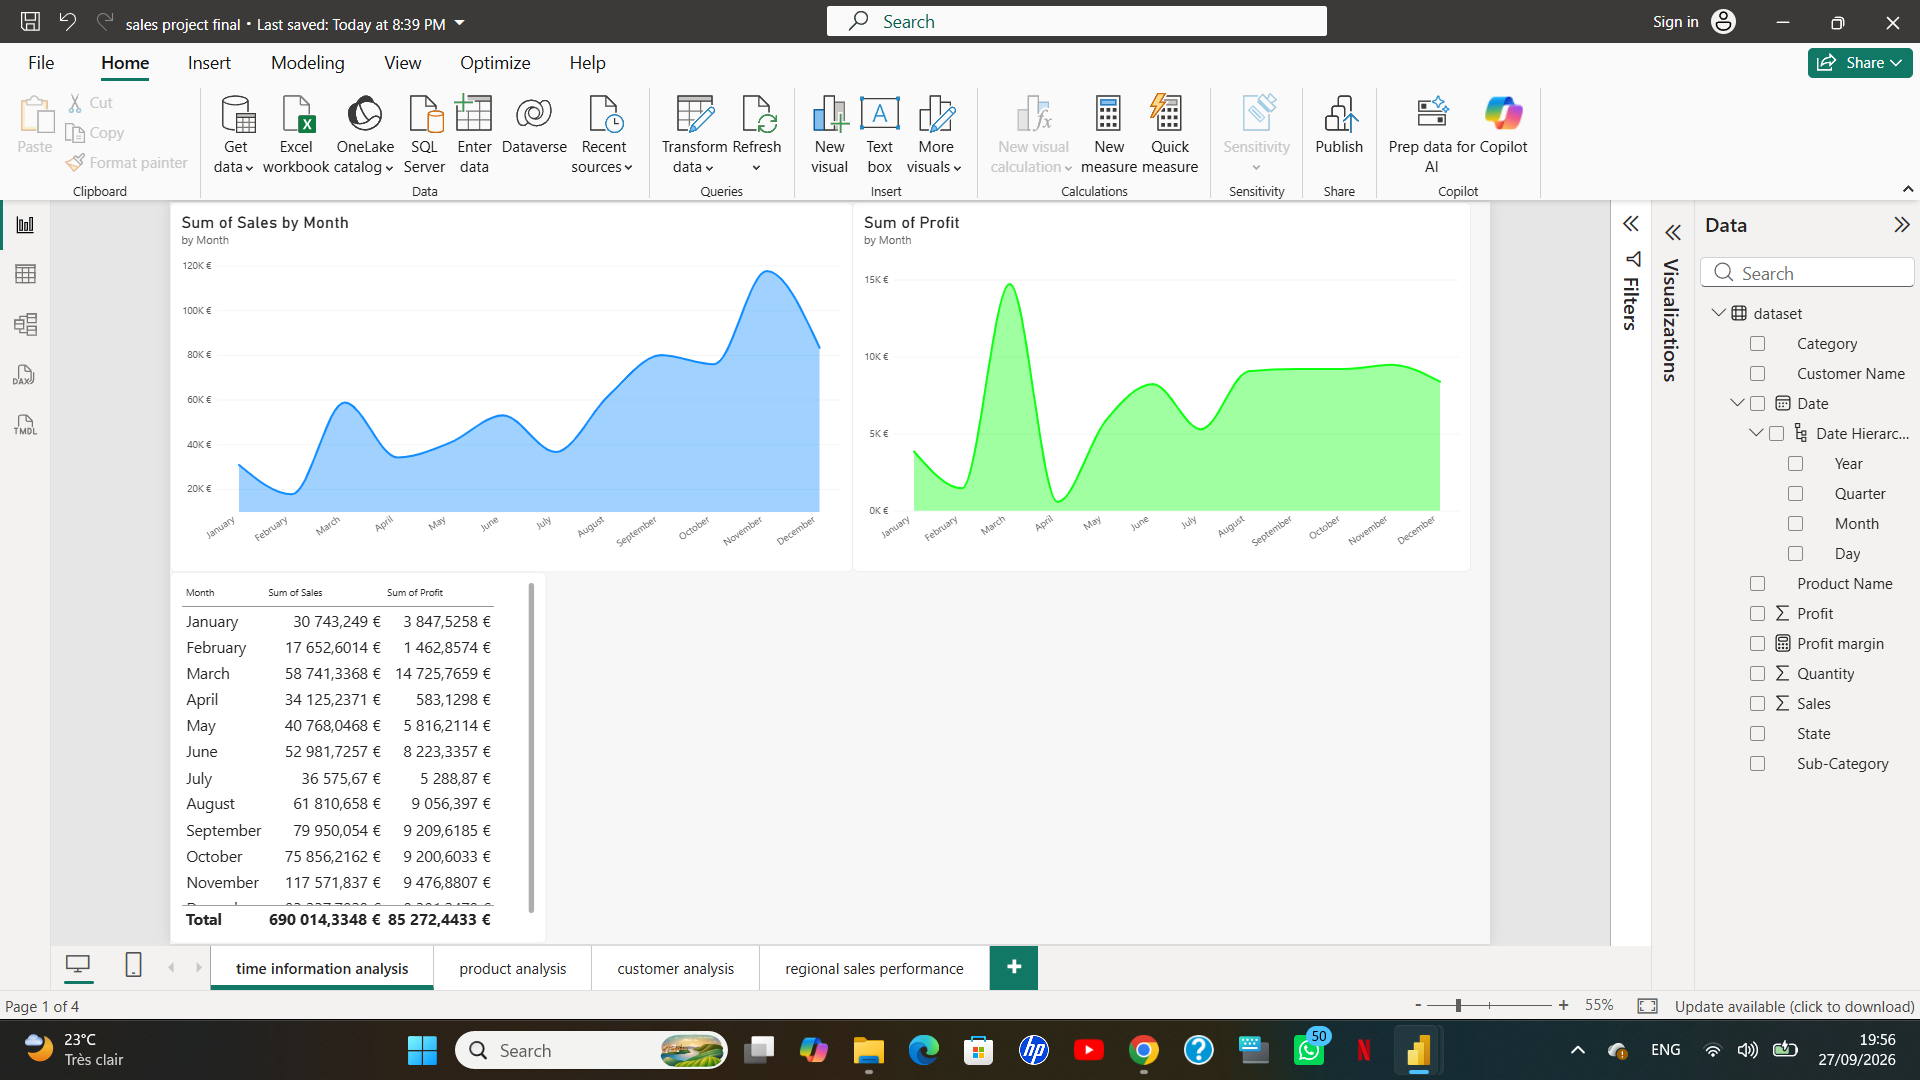

This screenshot's page, from the dashboard's own definition file:
{"tool":"powerbi","page":{"name":"time information analysis","canvas":[1920,1080],"ordinal":0},"visuals":[{"type":"lineChart","fields":{"Category":["dataset.Date.Variation.Date Hierarchy.Month"],"Y":["Sum(dataset.Sales)"]},"box":[0,0,992.7,538.2],"z":0},{"type":"areaChart","fields":{"Category":["dataset.Date.Variation.Date Hierarchy.Month"],"Y":["Sum(dataset.Profit)"]},"box":[992.7,0,899.4,537.5],"z":1000},{"type":"tableEx","fields":{"Values":["dataset.Date.Variation.Date Hierarchy.Month","Sum(dataset.Sales)","Sum(dataset.Profit)"]},"box":[0,538.2,547.3,540],"z":2000}]}

Visuals, with their boxes on the page's 1920x1080 design canvas (x1, y1, x2, y2). These are canvas units, not pixel positions in the 1920x1080 screenshot, which may show the page scaled, cropped or inside an application window:
lineChart - dataset.Date.Variation.Date Hierarchy.Month x Sum(dataset.Sales): 0:0:993:538
areaChart - dataset.Date.Variation.Date Hierarchy.Month x Sum(dataset.Profit): 993:0:1892:538
tableEx - dataset.Date.Variation.Date Hierarchy.Month x Sum(dataset.Sales): 0:538:547:1078
